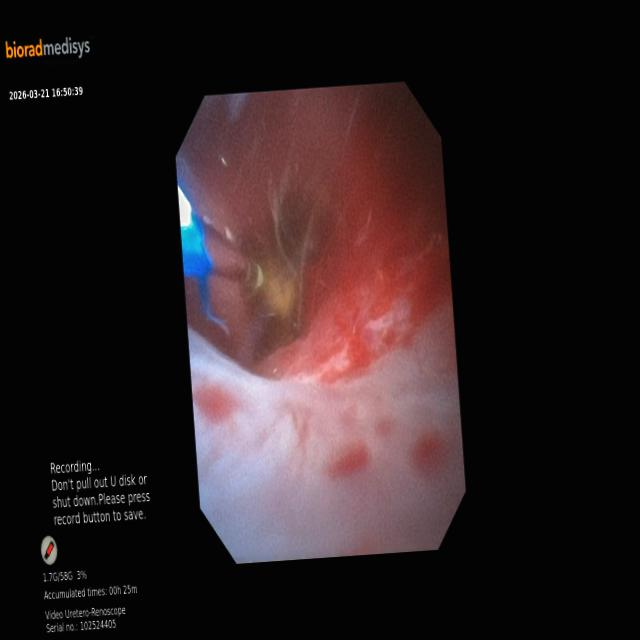laser-fibre: (198, 216, 262, 290)
stone-new: (251, 191, 328, 357)
